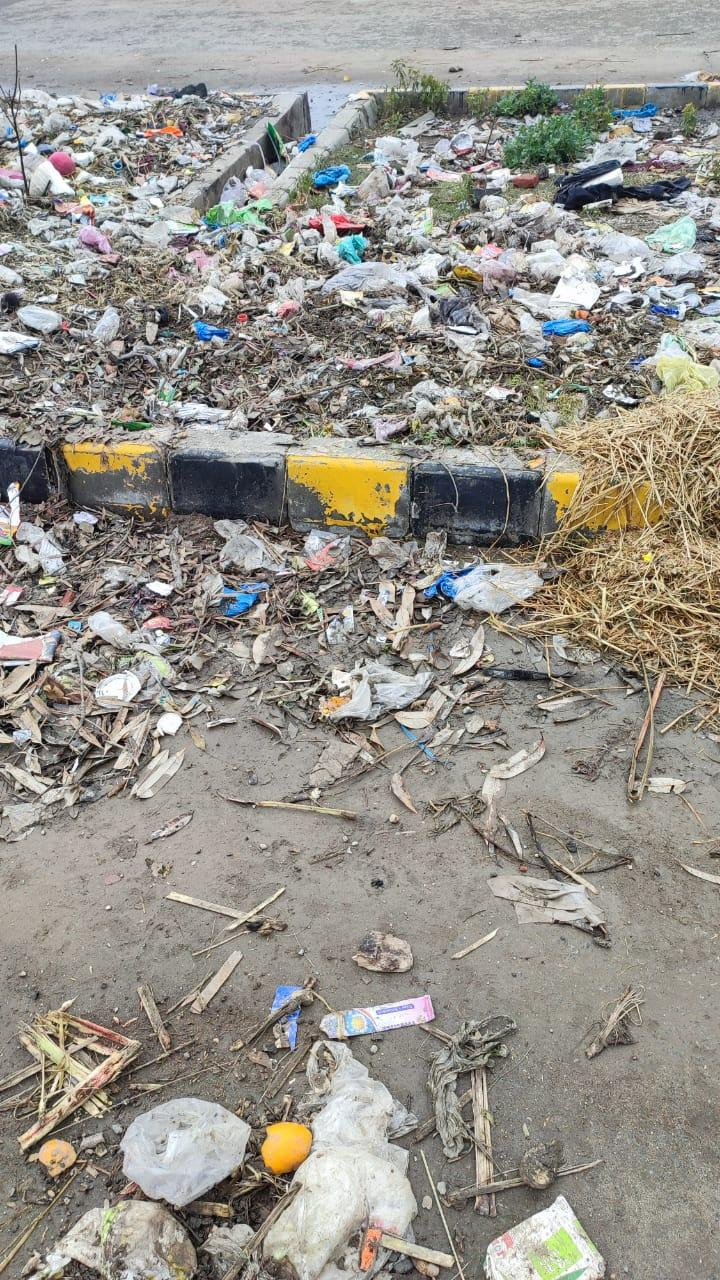garbage: (0, 93, 720, 763)
